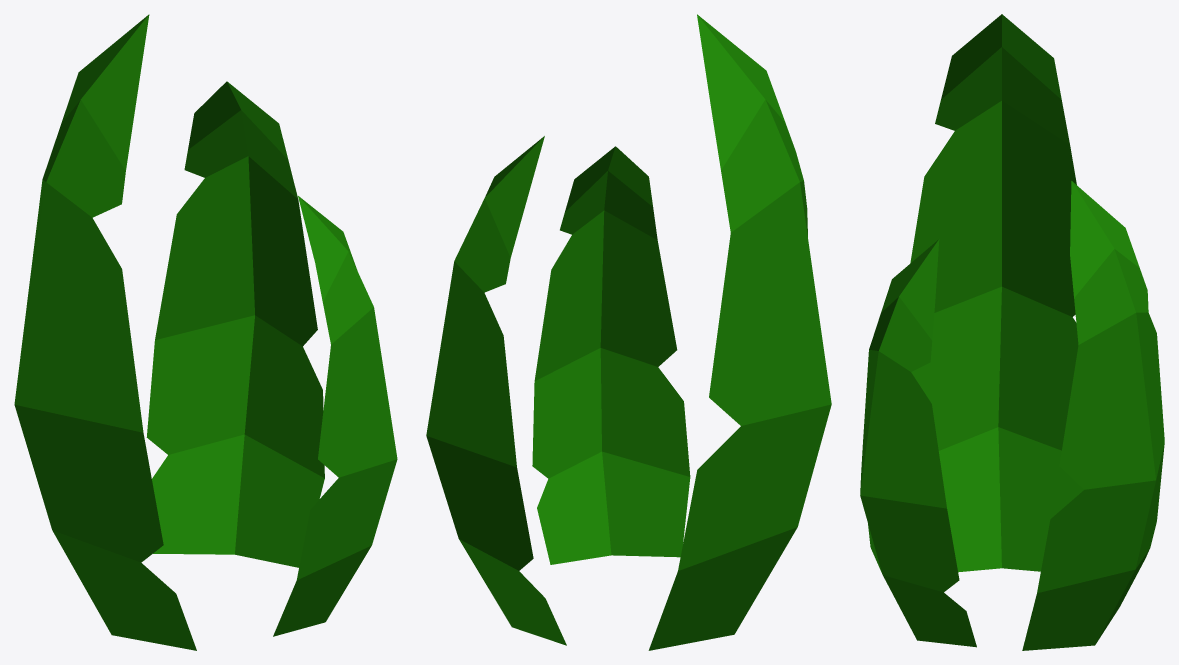
The model's file is Grass.fbx.
3 views of the same model, side by side, from view 1: azimuth 30°, elevation 25°; view 2: azimuth 150°, elevation 25°; view 3: azimuth 270°, elevation 25° (orthographic). The views are drawn at different scales.
Visible parts, largest first — view 1: Plane; view 2: Plane; view 3: Plane.
Part boxes in pixels (bbox=[...]): Plane: bbox=[14, 14, 397, 650]; Plane: bbox=[426, 14, 831, 650]; Plane: bbox=[860, 14, 1164, 650].
Bounding box in the file's own units: 340 × 703 × 402.
